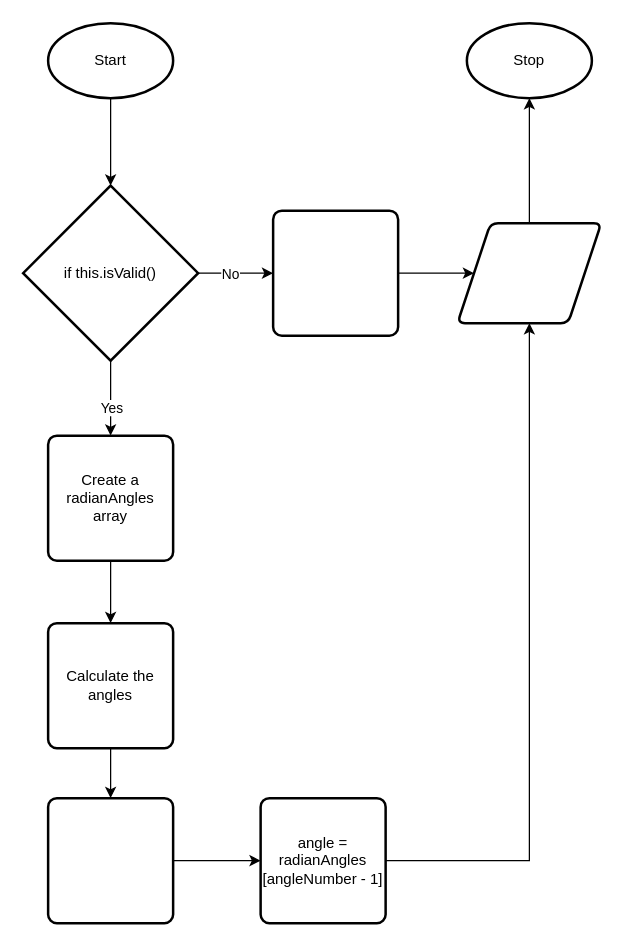
The diagram is 624 pixels wide and 945 high, and some of its shapes have lost their labels. The centre of each missing label's shape, as x and y in pixels:
angle = -1: point 335,272
Push the angles to the radianAngles array: point 110,860
return angle: point 529,272
